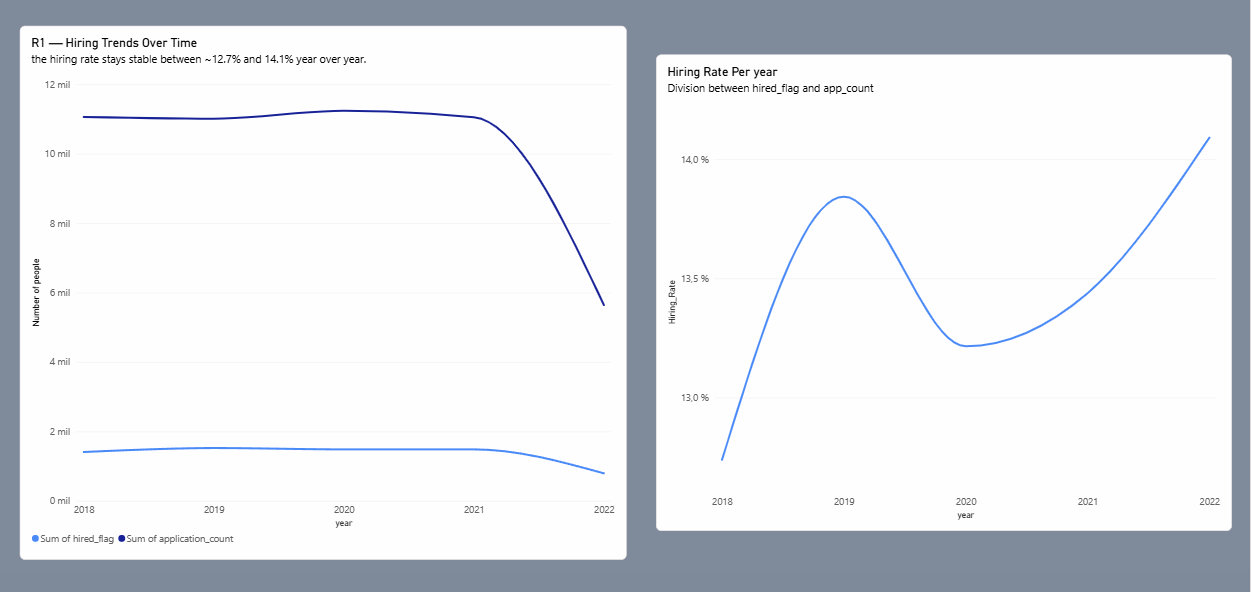

The page's visual inventory and layout, read from the dashboard file:
{"tool":"powerbi","page":{"name":"Hiring Trend Per Year and Quantity","canvas":[1920,1080],"ordinal":0},"visuals":[{"type":"lineChart","title":"R1 — Hiring Trends Over Time","fields":{"Category":["recruitment_dw dim_date.year"],"Y":["Sum(recruitment_dw fact_application.hired_flag)","Sum(recruitment_dw fact_application.application_count)"]},"box":[109.1,146.1,893.3,786.3],"z":0},{"type":"lineChart","title":"Hiring Rate Per year","fields":{"Category":["dim_date.year"],"Y":["fact_application.Hiring_Rate"]},"box":[1045.6,187.3,848,701.9],"z":1000}]}

Visuals, with their boxes on the page's 1920x1080 design canvas (x1, y1, x2, y2). These are canvas units, not pixel positions in the 1251x592 screenshot, which may show the page scaled, cropped or inside an application window:
"R1 — Hiring Trends Over Time" lineChart: 109 146 1002 932
"Hiring Rate Per year" lineChart: 1046 187 1894 889
